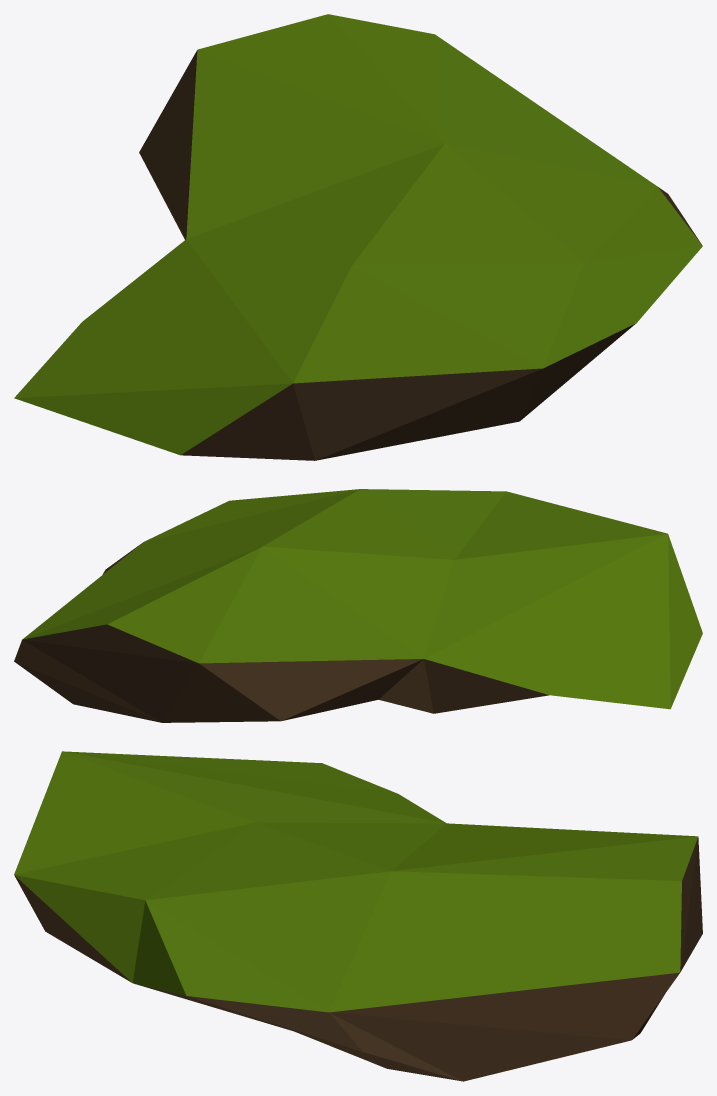
Rendered from Ground_5.glb.
3 views of the same model, one above another, from view 1: azimuth 30°, elevation 25°; view 2: azimuth 150°, elevation 25°; view 3: azimuth 270°, elevation 25° (orthographic). The views are drawn at different scales.
Visible parts, largest first — view 1: Ground_05; view 2: Ground_05; view 3: Ground_05.
Boxes of the visible parts, x1,y1,x2,y2 form: Ground_05: (14, 14, 702, 460); Ground_05: (14, 489, 702, 722); Ground_05: (14, 751, 702, 1081).
Size of the model in its own units: 4.95 by 1.38 by 4.63.
